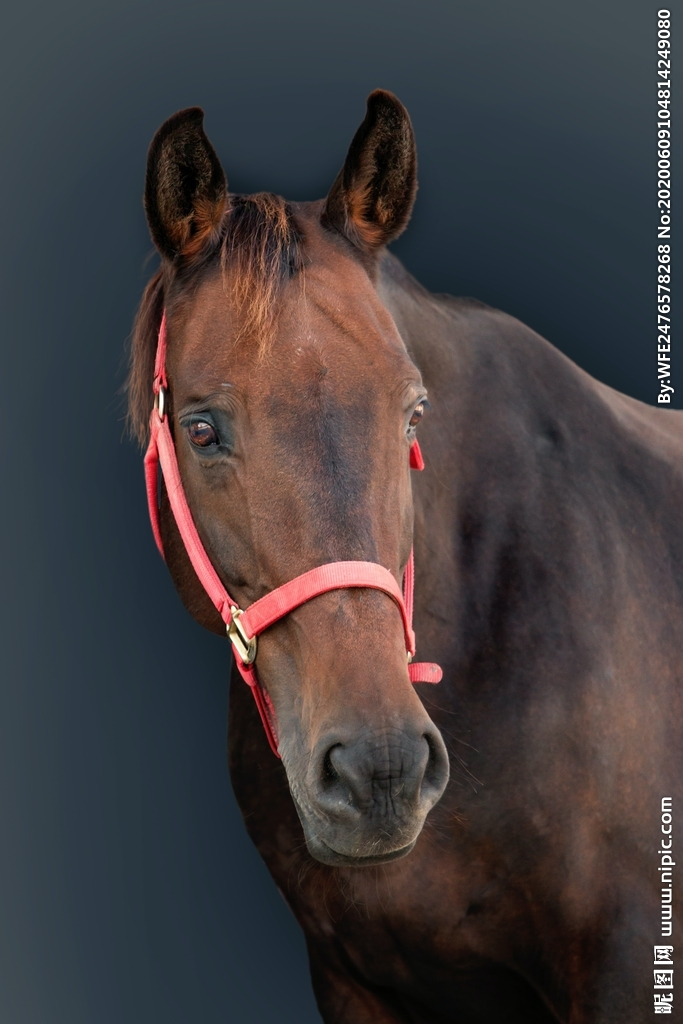horse: (114, 74, 683, 1024)
